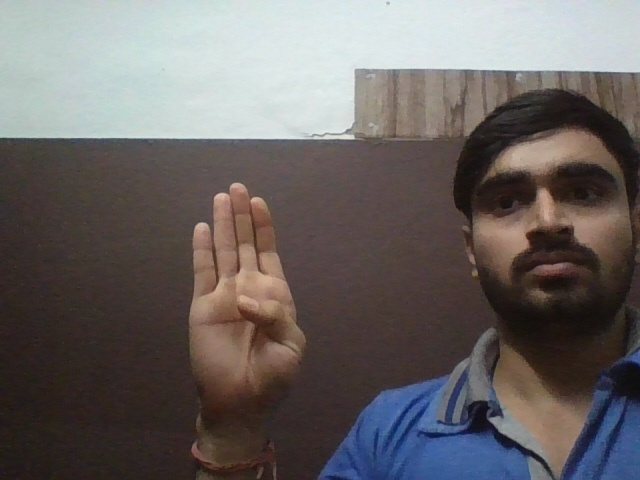B: (183, 178, 311, 420)
